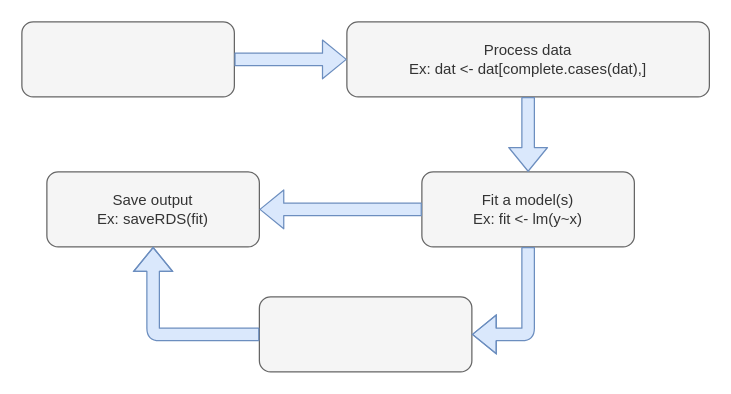
The diagram is 731 pixels wide and 394 high, and some of its shapes have lost their labels. Each missing label, with the centre of its shape:
Read in data Ex: read.csv("iris.csv"): pixel 127 59
Visualize and summarize ggplot(fit) summary(fit): pixel 365 334
